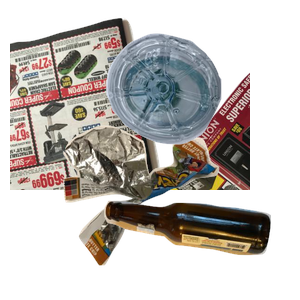glass: (101, 198, 300, 300)
paper: (10, 15, 250, 195)
plastic: (104, 31, 300, 168)
trash: (61, 123, 273, 300)
